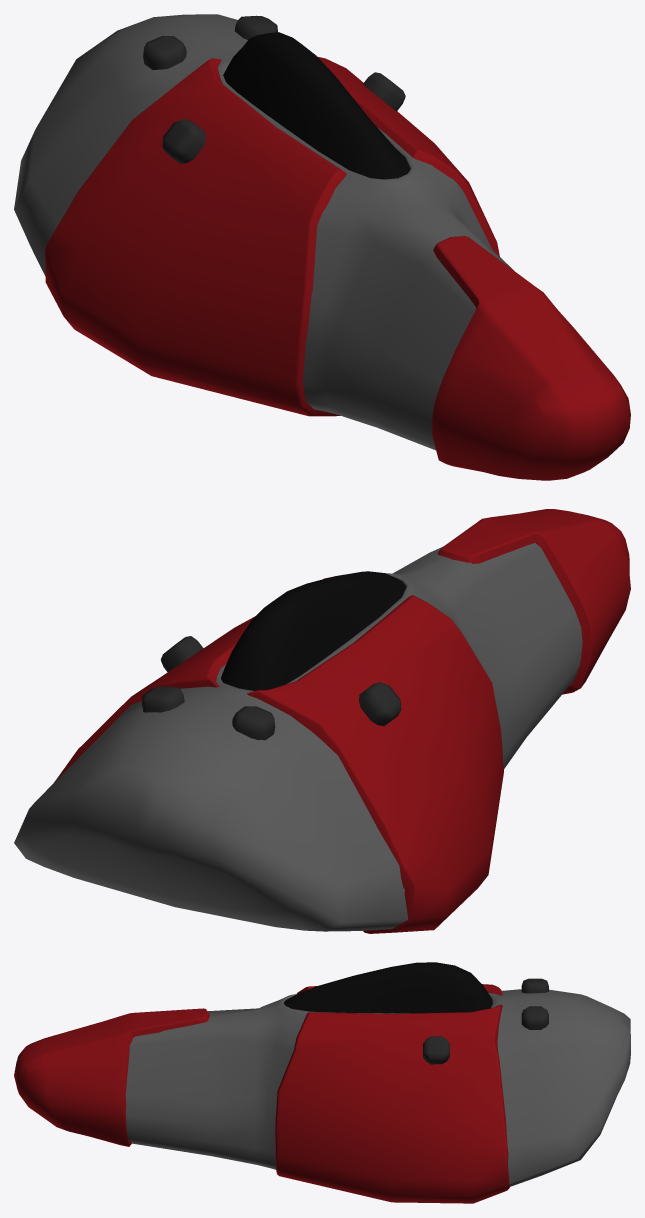
The model's file is Ship_enemy_05_Hull.fbx.
3 views of the same model, one above another, from view 1: azimuth 30°, elevation 25°; view 2: azimuth 150°, elevation 25°; view 3: azimuth 270°, elevation 25° (orthographic). The views are drawn at different scales.
Visible parts, largest first — view 1: Ship_enemy_05_Hull; view 2: Ship_enemy_05_Hull; view 3: Ship_enemy_05_Hull.
Boxes of the visible parts, x1,y1,x2,y2 form: Ship_enemy_05_Hull: (14, 14, 630, 480); Ship_enemy_05_Hull: (14, 509, 630, 933); Ship_enemy_05_Hull: (14, 962, 630, 1203).
Size of the model in its own units: 261 by 186 by 530.
